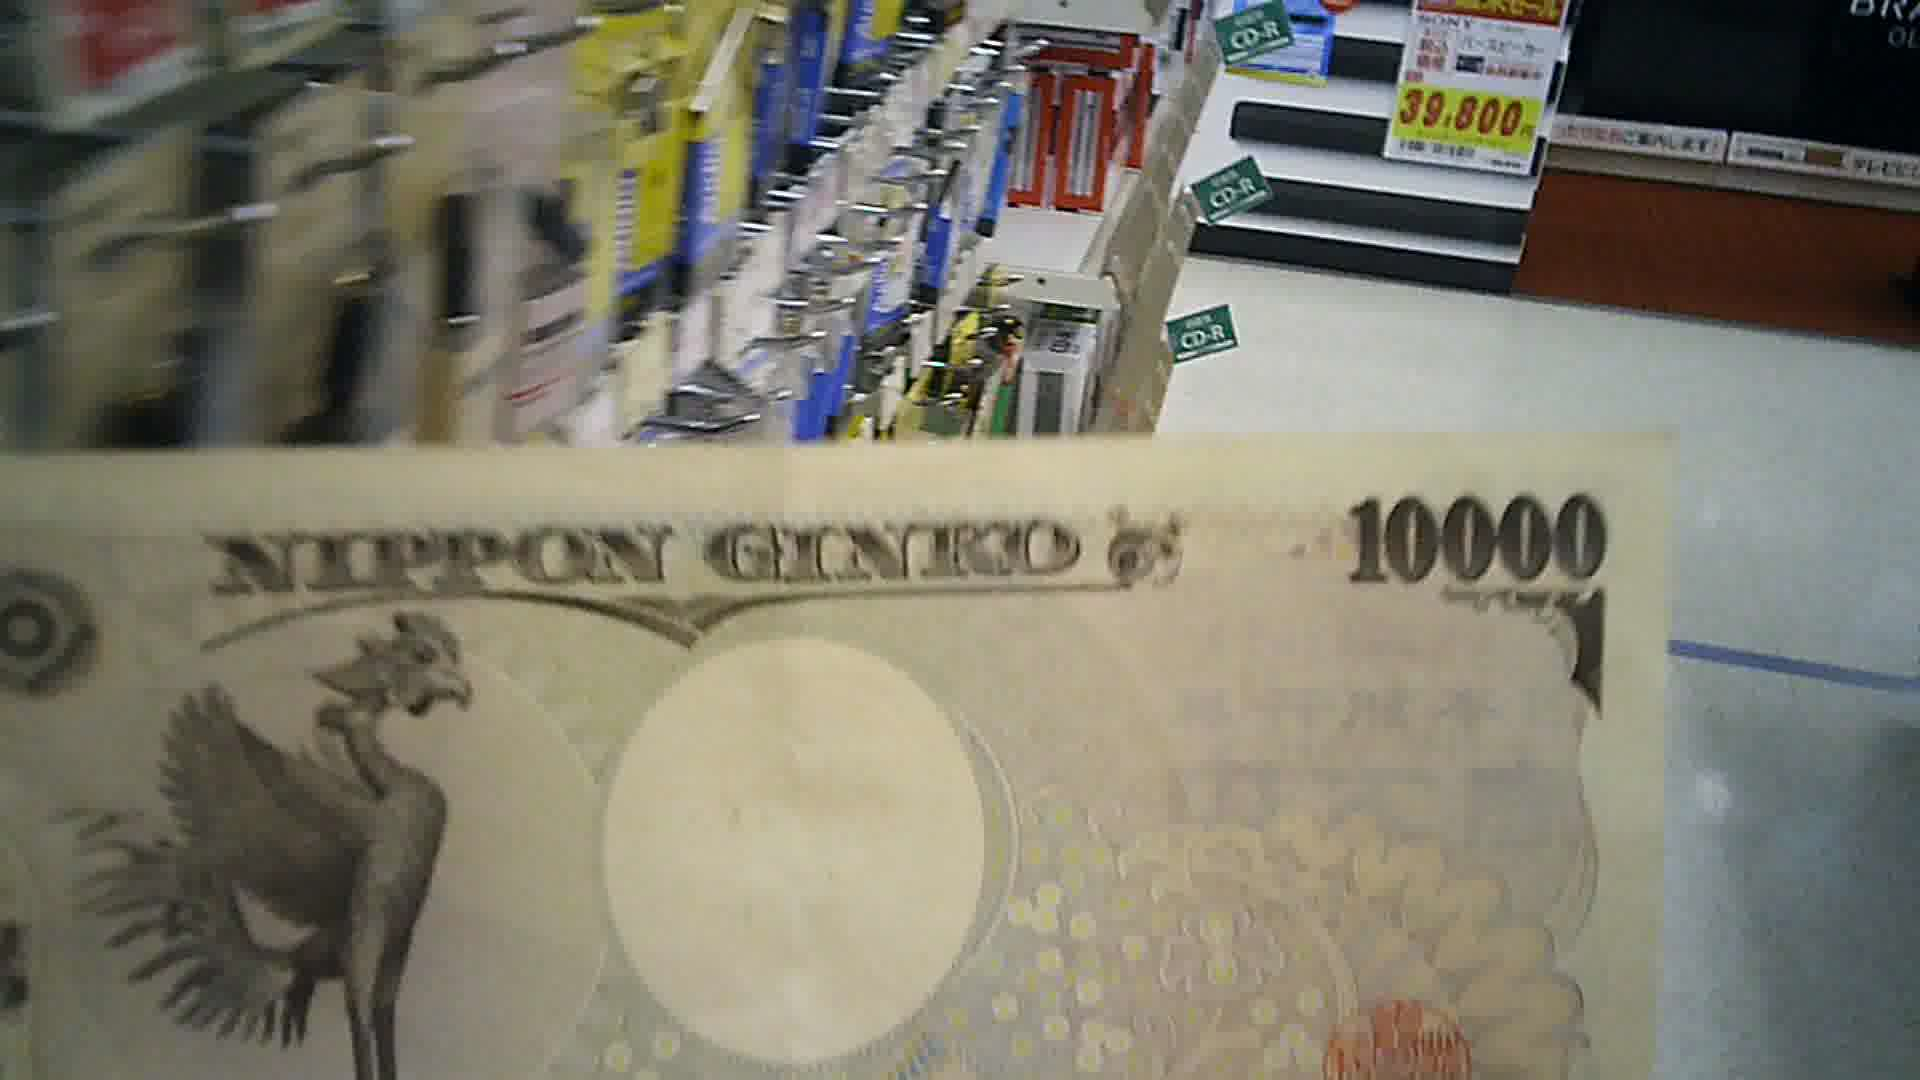10,000 Yen: (7, 392, 1677, 1079)
